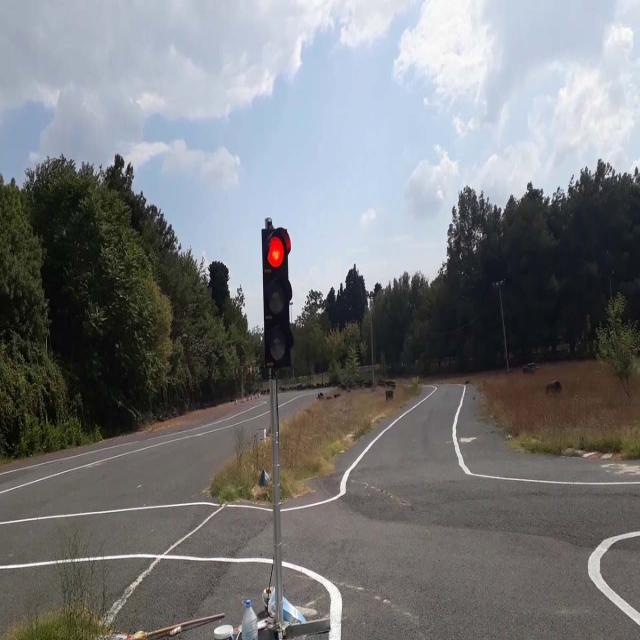kirmizi: (262, 225, 290, 368)
